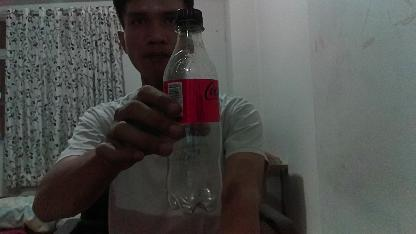Plastic Bottle: (165, 5, 227, 215)
